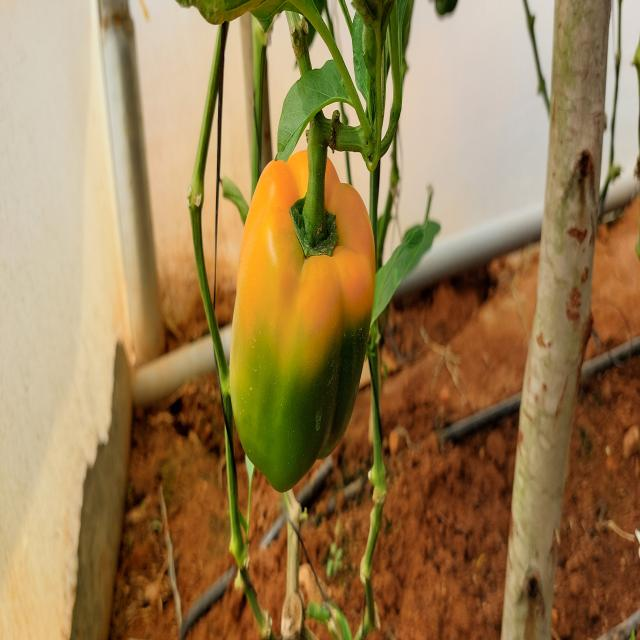GreenishYellow--Can-be-Harvested: (220, 133, 392, 514)
